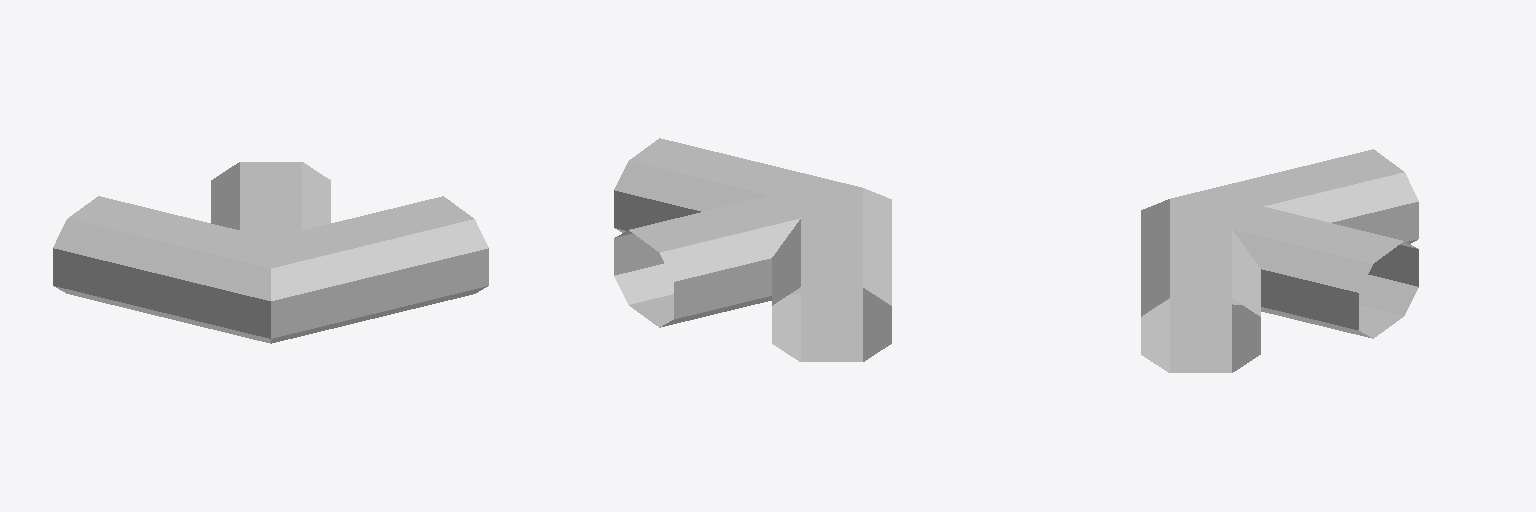
The model's file is Block30.obj.
The picture shows the model from 3 angles: view 1: azimuth 30°, elevation 25°; view 2: azimuth 150°, elevation 25°; view 3: azimuth 270°, elevation 25°; orthographic projection.
Parts seen in each view (by area): view 1: Block30.001_Cylinder.028; view 2: Block30.001_Cylinder.028; view 3: Block30.001_Cylinder.028.
Boxes of the visible parts, box(x1,y1,x2,y2) form: Block30.001_Cylinder.028: box(53, 162, 488, 343); Block30.001_Cylinder.028: box(614, 138, 891, 361); Block30.001_Cylinder.028: box(1141, 149, 1418, 372).
Size of the model in its own units: 1.51 by 0.3302 by 1.11.